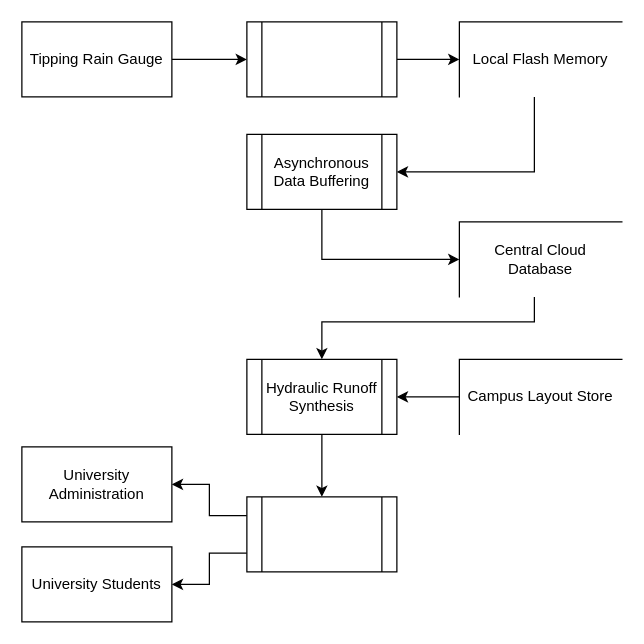
The diagram is 644 pixels wide and 644 high, and some of its shapes have lost their labels. The shapes that lost their labels are listed below. From the top down, each one's centre as x and y in pixels, then its label:
At [321,59]: "Rainfall Intensity Calculation".
At [321,534]: "3D Visualization Rendering".
